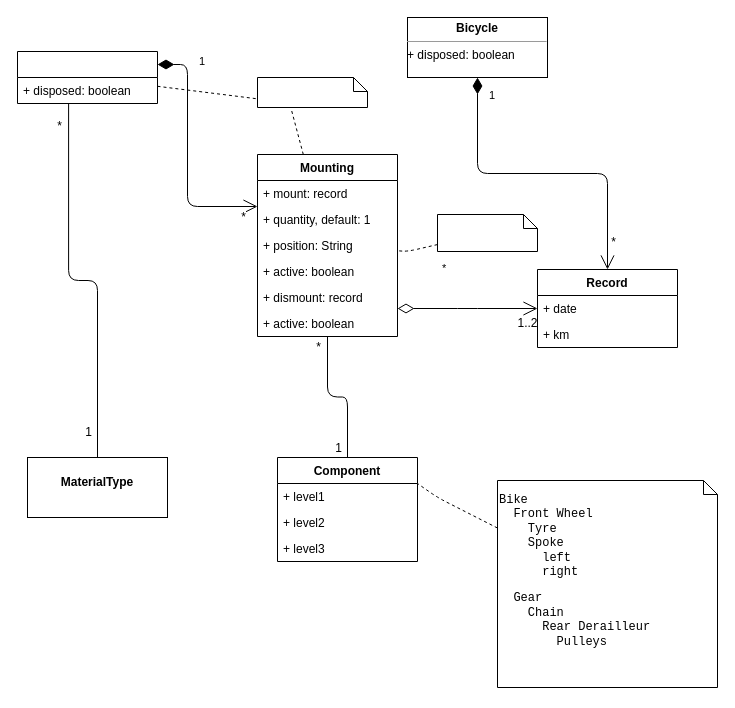
Some shapes in this 735 by 708 pixel diagram are drawn without their labels. The box of each missing label's shape, as (x1, y1, x2, y2) in pixels:
0..1 active mountings: (256, 76, 368, 108)
Both Records of one Bicycle: (436, 214, 538, 252)
Material: (16, 50, 158, 104)
